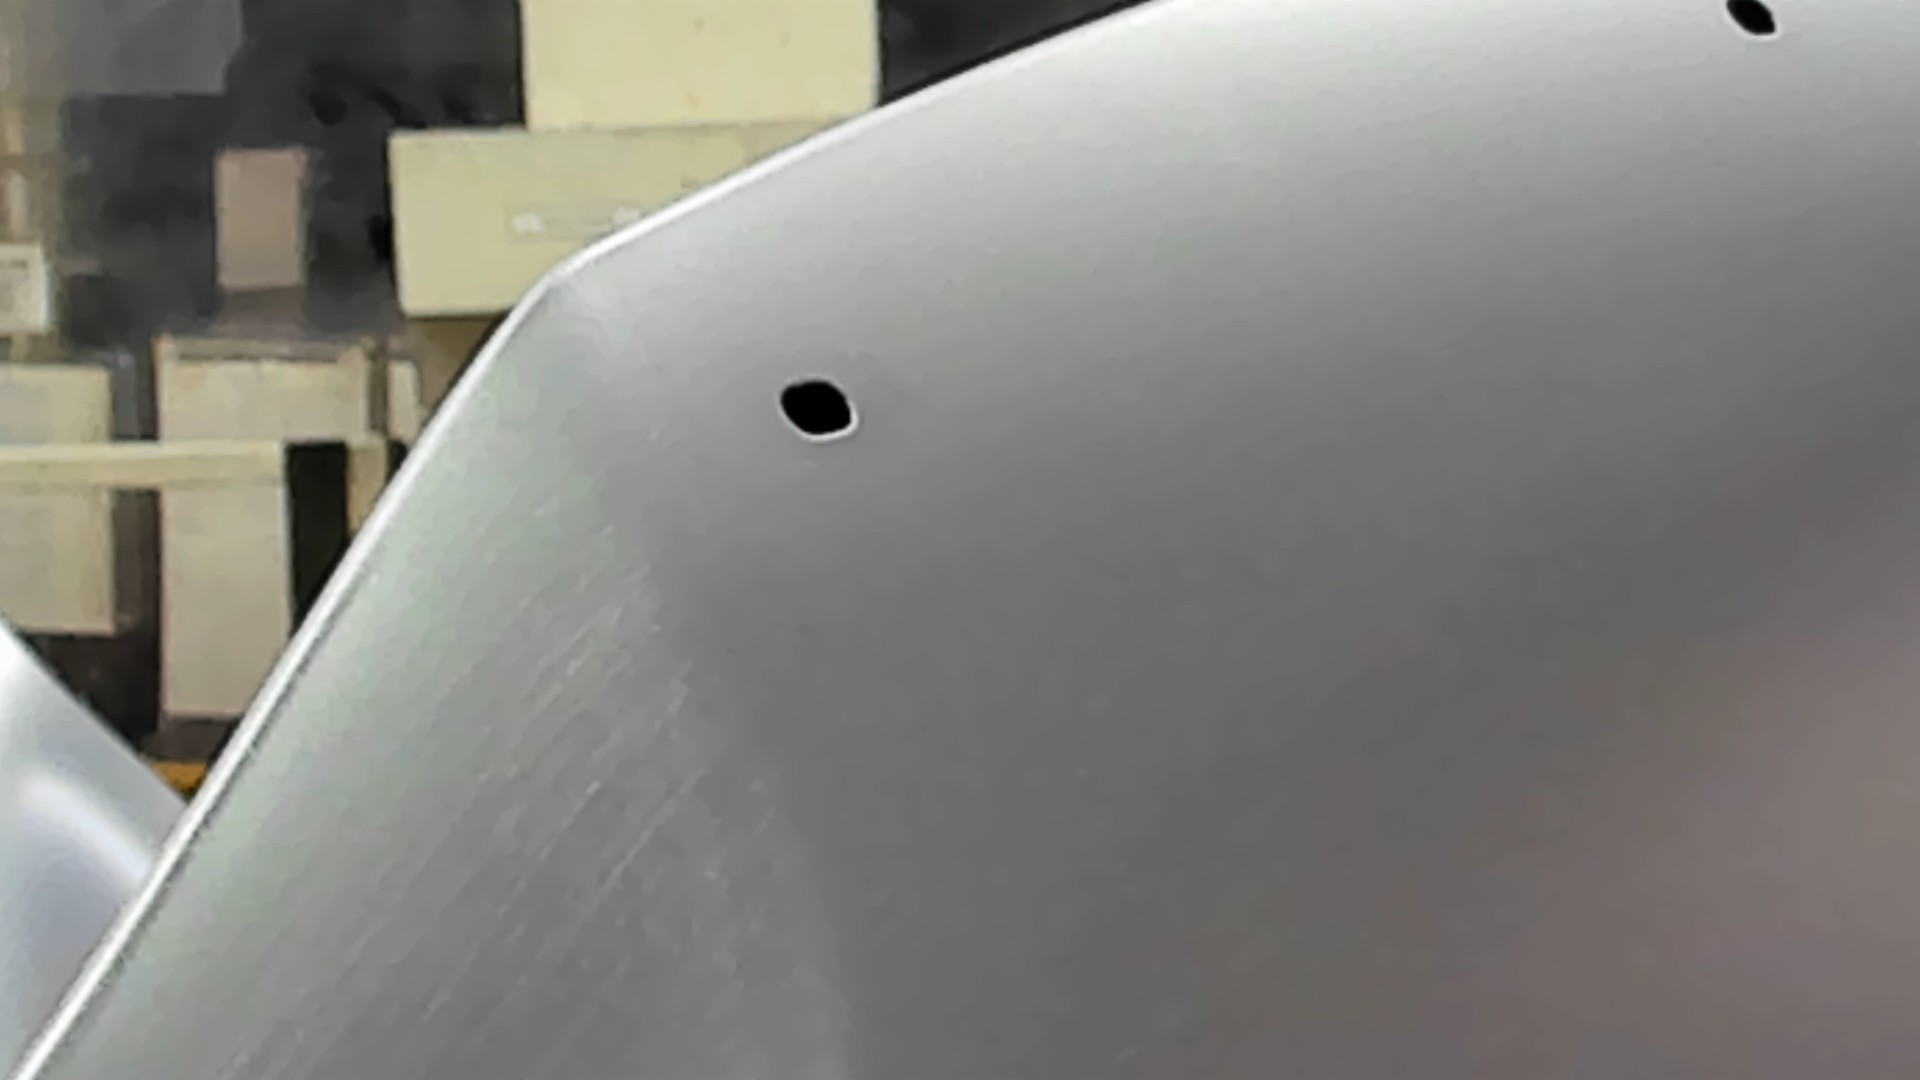amorfo: (769, 373, 864, 444), (1720, 1, 1782, 44)
